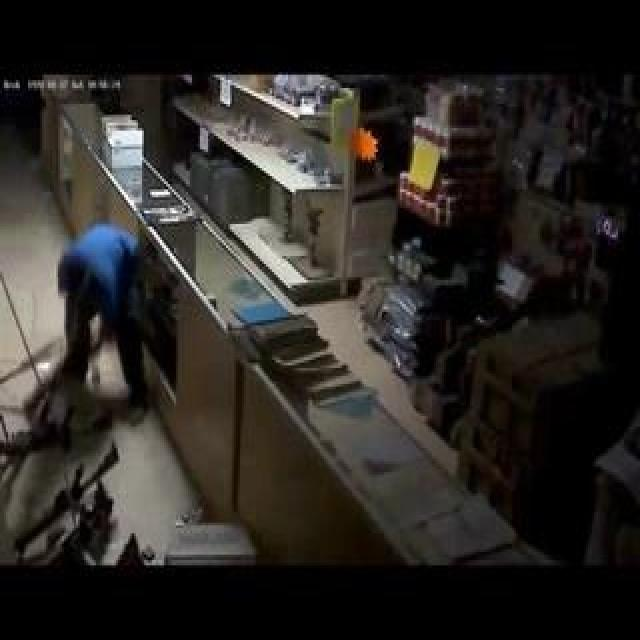thief: (39, 212, 194, 418)
